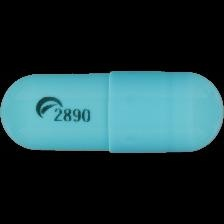0228-2890: (0, 0, 224, 224)
